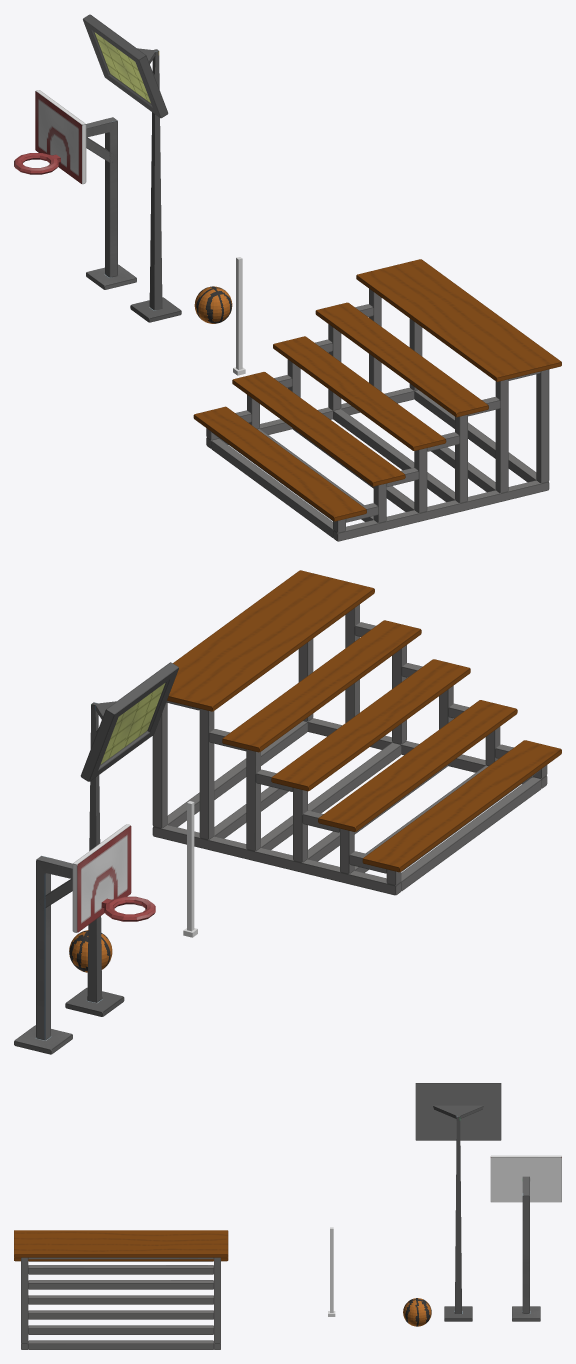
File: basketball pack.fbx
3 renders of one model, top to bottom at view 1: azimuth 30°, elevation 25°; view 2: azimuth 150°, elevation 25°; view 3: azimuth 270°, elevation 25°, orthographic. The views are drawn at different scales.
Parts seen in each view (by area): view 1: cuboid_41, cuboid, cuboid_40, cuboid_36, cuboid_39, cuboid_38, cuboid_4, cuboid_3, cuboid_16, cuboid_26, cuboid_29, cuboid_45 (+10 smaller); view 2: cuboid_41, cuboid, cuboid_39, cuboid_36, cuboid_38, cuboid_40, cuboid_4, cuboid_6, cuboid_3, cuboid_26, cuboid_29, cuboid_10 (+13 smaller); view 3: cuboid_41, cuboid, cuboid_4, cuboid_3, cuboid_26, cuboid_27, cuboid_28, cuboid_29, cuboid_30, cuboid_31, cuboid_45, basketball (+4 smaller).
Boxes of the visible parts, <box> form: cuboid_41: <box>356,259,561,381</box>; cuboid: <box>35,90,136,289</box>; cuboid_40: <box>315,302,488,417</box>; cuboid_36: <box>193,406,366,521</box>; cuboid_39: <box>273,336,446,450</box>; cuboid_38: <box>232,372,405,486</box>; cuboid_4: <box>83,14,168,118</box>; cuboid_3: <box>130,48,181,322</box>; cuboid_16: <box>333,480,549,541</box>; cuboid_26: <box>211,439,333,537</box>; cuboid_29: <box>333,409,455,502</box>; cuboid_45: <box>536,369,549,483</box>; cuboid_41: <box>167,570,374,711</box>; cuboid: <box>14,824,131,1054</box>; cuboid_39: <box>271,659,470,791</box>; cuboid_36: <box>362,740,561,872</box>; cuboid_38: <box>318,700,517,831</box>; cuboid_40: <box>222,620,421,752</box>; cuboid_4: <box>80,662,178,781</box>; cuboid_6: <box>152,825,401,895</box>; cuboid_3: <box>65,701,124,1016</box>; cuboid_26: <box>396,777,541,891</box>; cuboid_29: <box>261,743,401,849</box>; cuboid_10: <box>199,709,214,839</box>; cuboid_41: <box>14,1230,228,1257</box>; cuboid: <box>490,1155,561,1321</box>; cuboid_4: <box>415,1083,501,1140</box>; cuboid_3: <box>433,1105,483,1321</box>; cuboid_26: <box>28,1265,213,1274</box>; cuboid_27: <box>28,1340,213,1349</box>; cuboid_28: <box>28,1325,213,1334</box>; cuboid_29: <box>28,1310,213,1319</box>; cuboid_30: <box>28,1295,213,1304</box>; cuboid_31: <box>28,1280,213,1289</box>; cuboid_45: <box>21,1257,28,1343</box>; basketball: <box>403,1298,431,1326</box>.
Size of the model in its own units: 700 by 842 by 1919.
4 materials, 4 textured.
